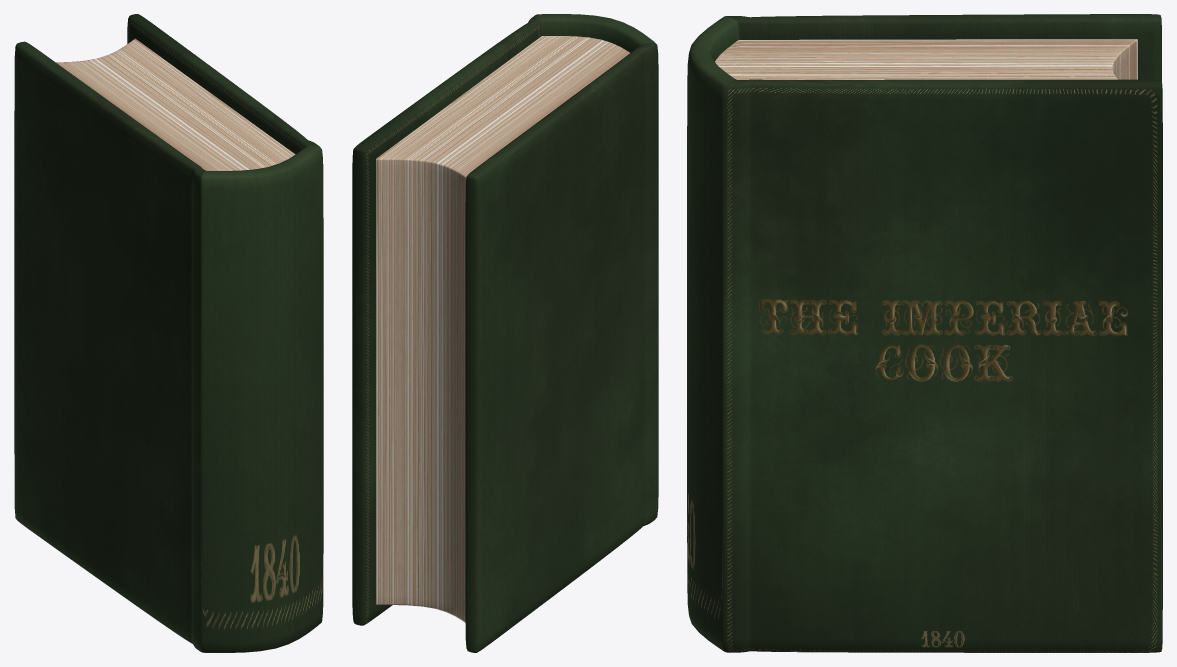
The model's file is book-1.glb.
3 views of the same model, side by side, from view 1: azimuth 30°, elevation 25°; view 2: azimuth 150°, elevation 25°; view 3: azimuth 270°, elevation 25° (orthographic). The views are drawn at different scales.
Parts seen in each view (by area): view 1: The imerial cookbook, Book Pages.001; view 2: The imerial cookbook, Book Pages.001; view 3: The imerial cookbook, Book Pages.001.
Part boxes in pixels (x1,y1,x2,y2): The imerial cookbook: [14, 14, 323, 652]; Book Pages.001: [56, 38, 295, 170]; The imerial cookbook: [352, 14, 658, 652]; Book Pages.001: [376, 36, 629, 622]; The imerial cookbook: [687, 14, 1162, 652]; Book Pages.001: [715, 39, 1137, 79].
Bounding box in the file's own units: 0.2944 × 1.05 × 0.793.
Materials: 2 (2 with a texture image).
